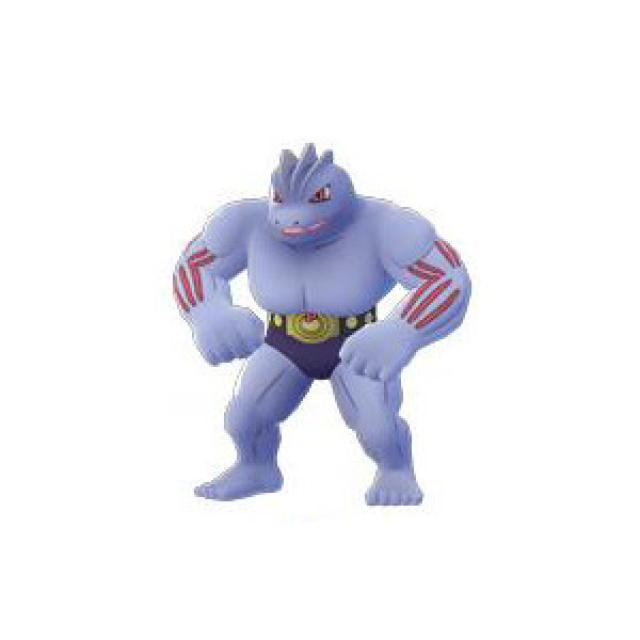Machoke: (190, 130, 475, 508)
